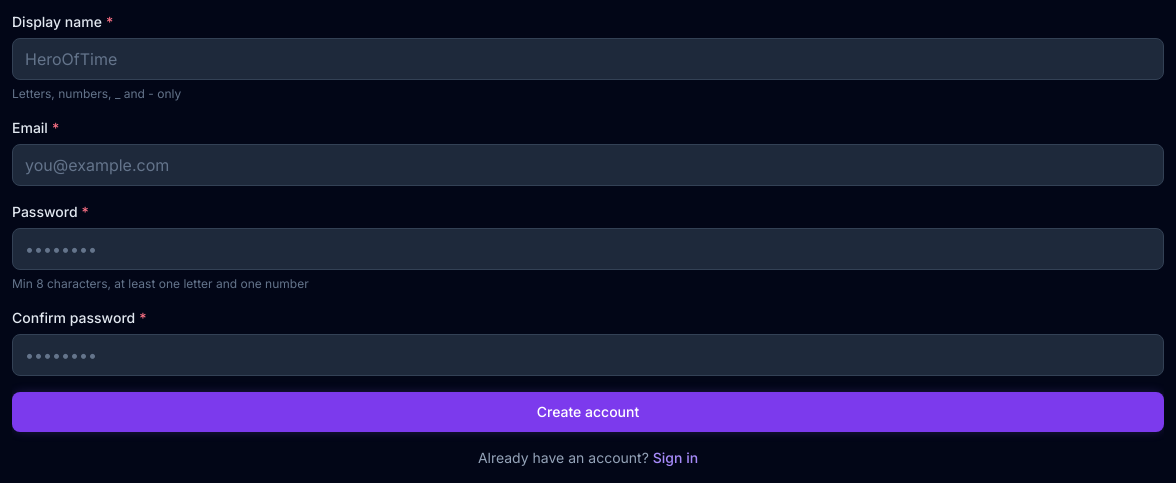
Test: RegisterForm › shows "Must contain a number" when password has no digit
Type "Hero123" into the field labelled "Display name*" at (588, 59), box [12,38,1164,80]
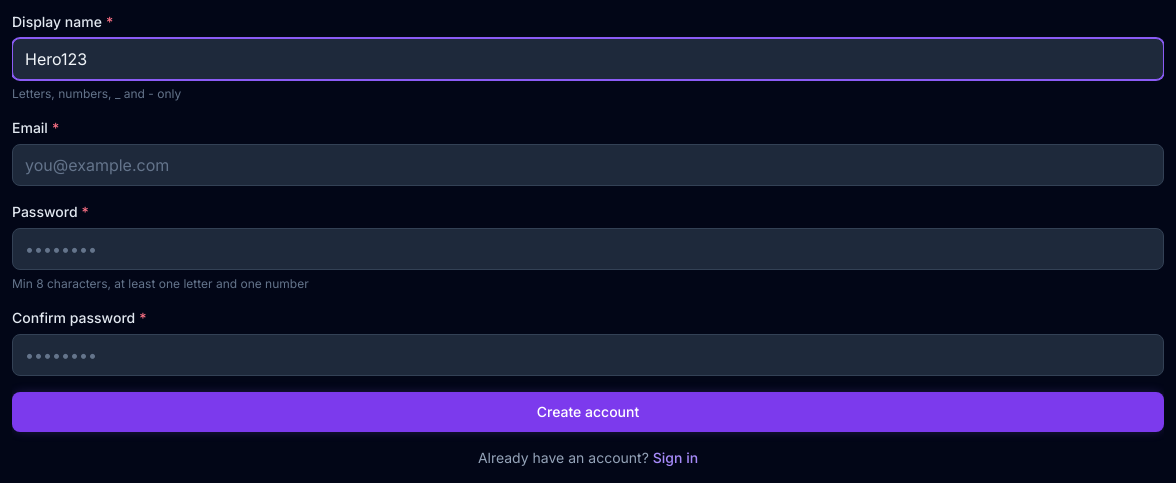
Type "hero@example.com" into the field labelled "Email*" at (588, 165), box [12,144,1164,186]
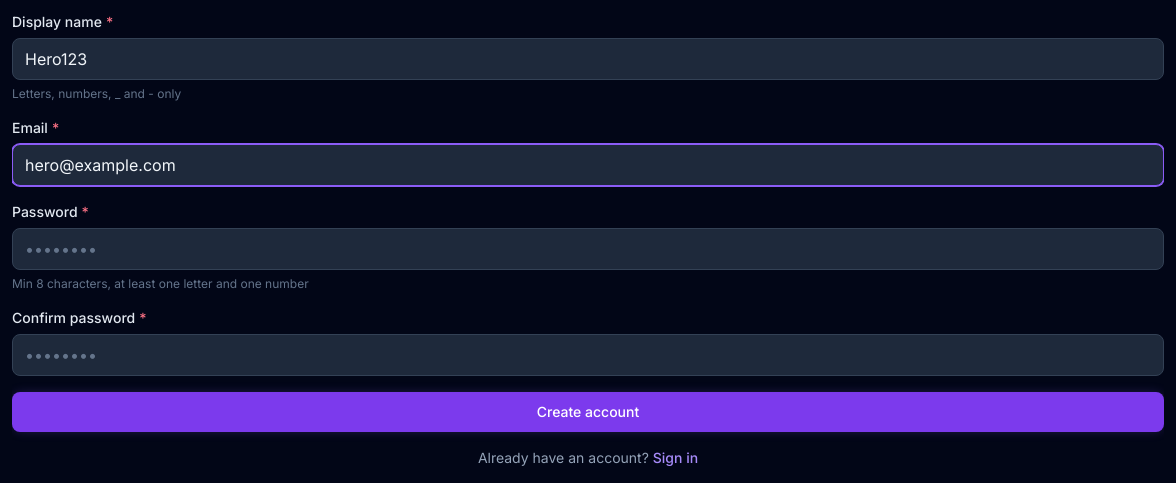
Type "PasswordOnly" into the password field labelled "Password*" at (588, 249), box [12,228,1164,270]
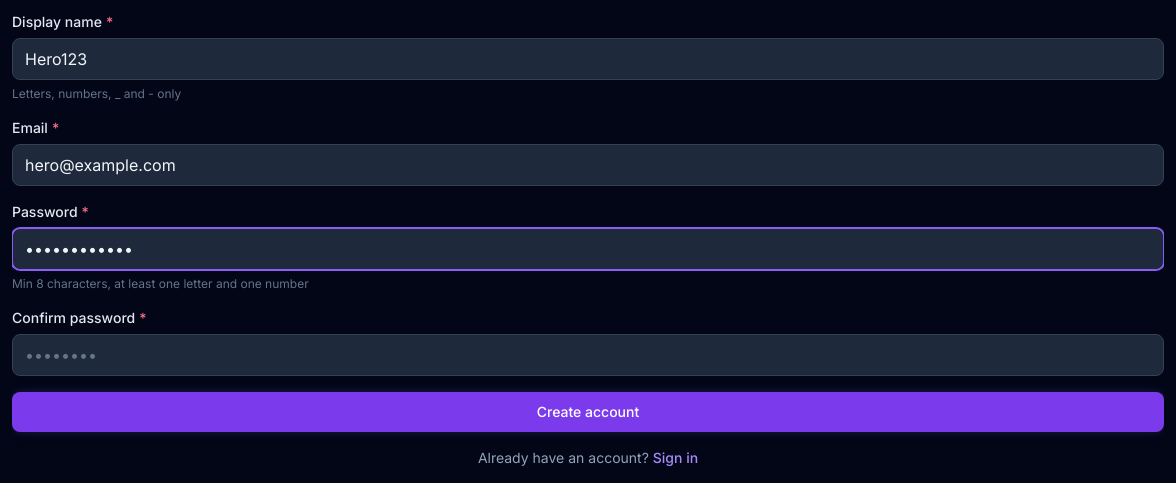
Type "PasswordOnly" into the password field labelled "Confirm password*" at (588, 355), box [12,334,1164,376]
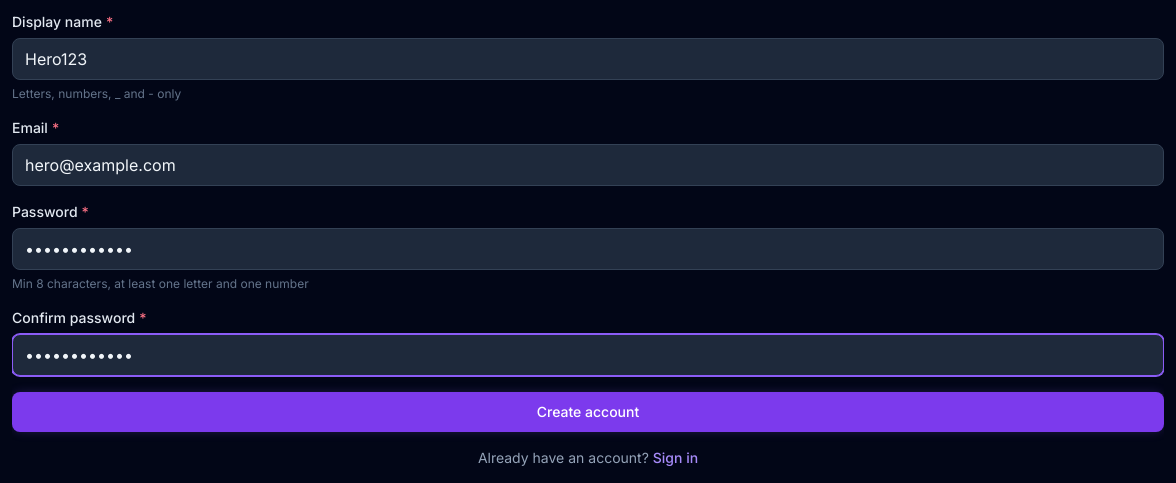
Click the button "Create account" at (588, 412), box [12,392,1164,432]
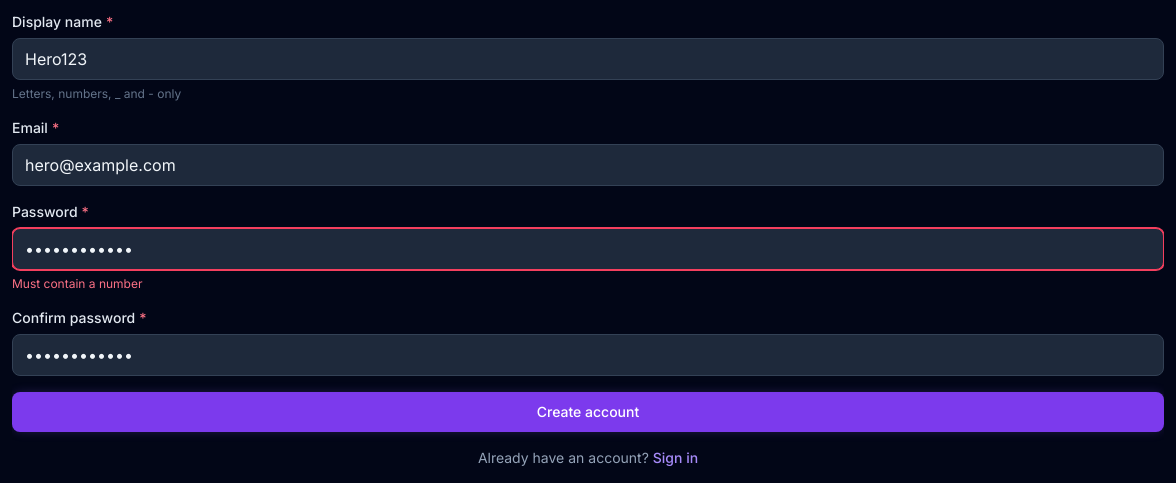
Check: the text "Must contain a number" is shown, box [12,276,142,291]
